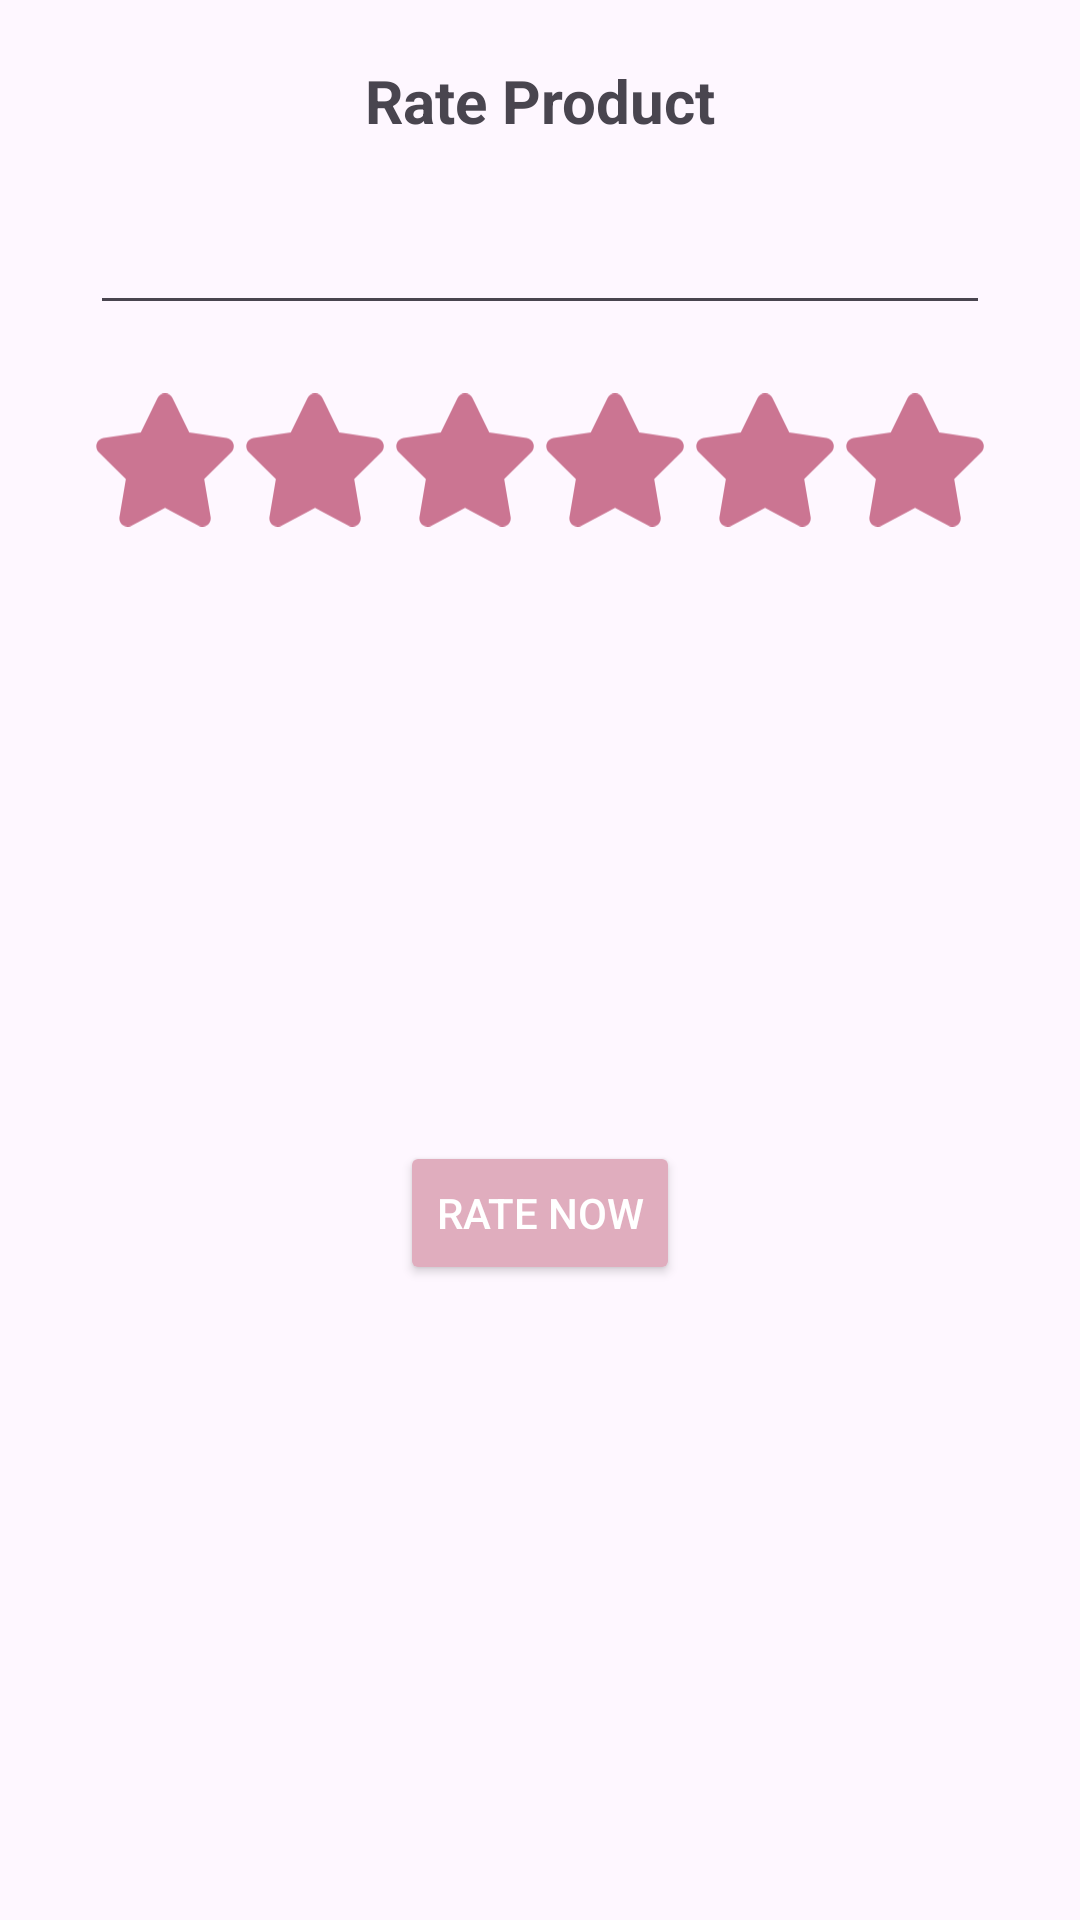

Locate icon controls on the screen. Image size 1080x1920, boxes as (x1, y1, x2, y2).
star: (96, 393, 234, 527), (246, 393, 384, 527), (396, 393, 534, 527), (546, 393, 684, 527), (696, 393, 834, 527), (846, 393, 984, 527)
